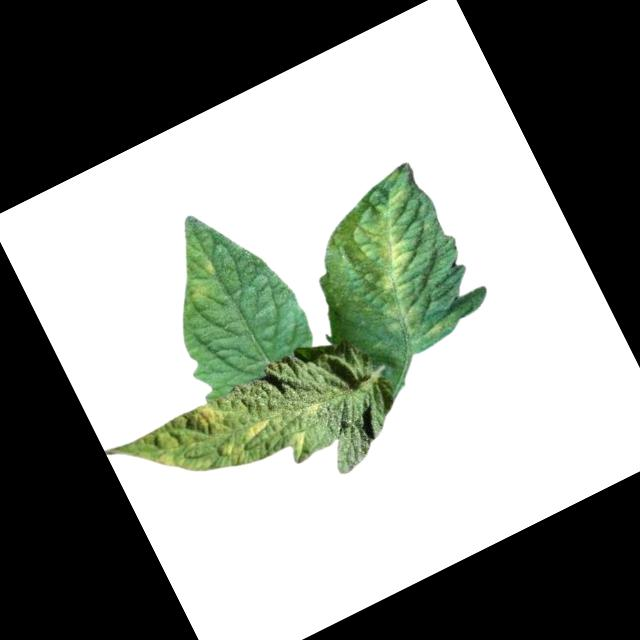Leaf_Mold: (326, 185, 471, 362), (120, 378, 286, 510), (173, 255, 228, 309)
